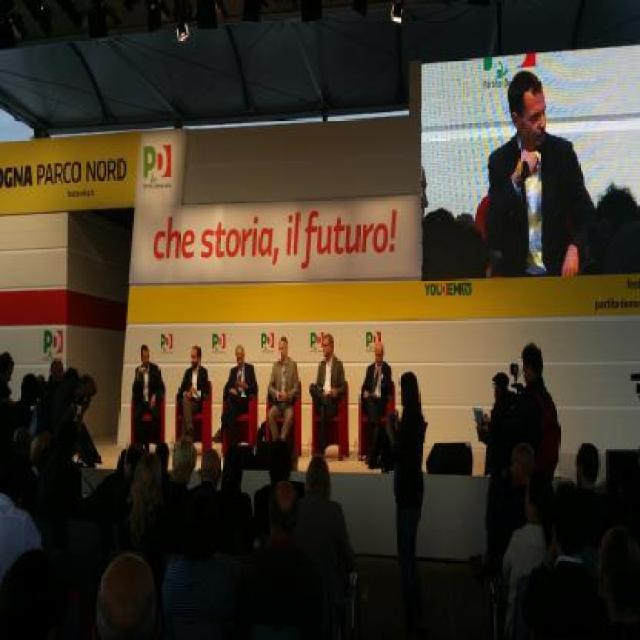Person: (97, 430, 352, 567), (498, 436, 637, 639), (486, 67, 597, 278), (510, 342, 565, 500), (388, 372, 428, 576), (0, 546, 68, 639), (478, 374, 512, 558), (98, 547, 158, 639), (2, 437, 40, 581), (207, 350, 256, 455), (310, 334, 347, 458), (595, 181, 639, 276), (363, 341, 394, 468), (268, 340, 304, 440), (133, 346, 162, 454), (422, 208, 464, 282), (178, 349, 208, 436), (458, 210, 487, 279), (52, 366, 80, 422), (12, 375, 38, 420), (0, 347, 14, 411), (44, 358, 64, 388)
